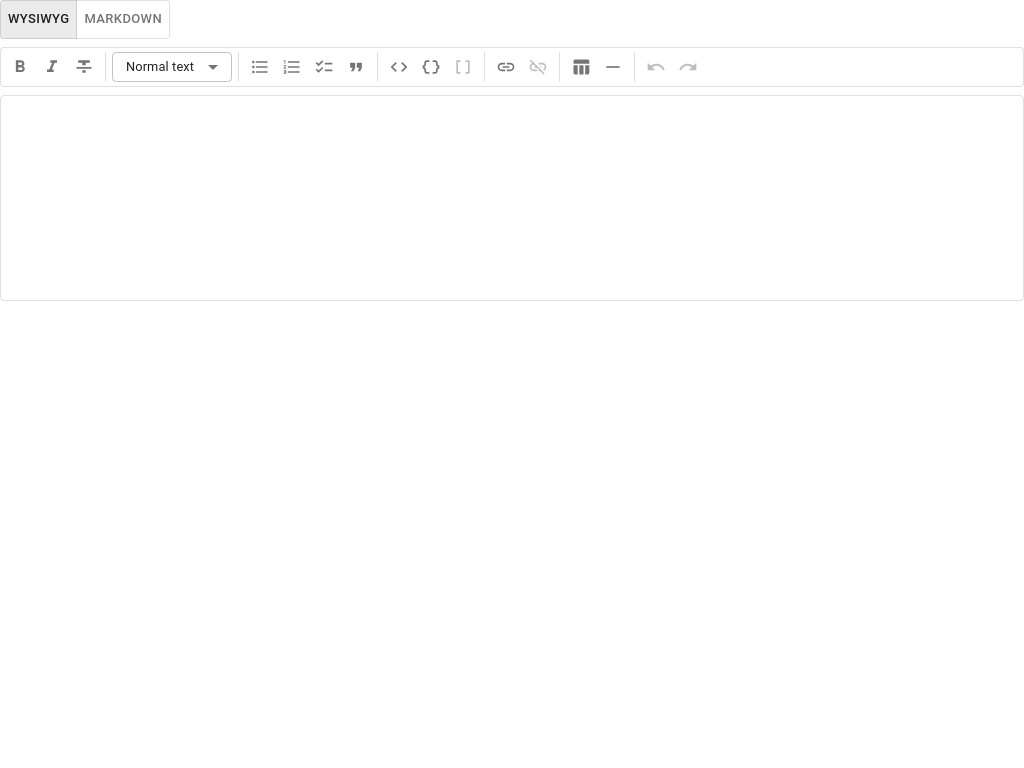
Test: MarkdownPanelEditor › opens the link dialog when the link button is clicked
What coordinates should you click on to do the following:
click the button named "Link"
I would click on:
 (506, 67)
Its box is [491,52,521,82].
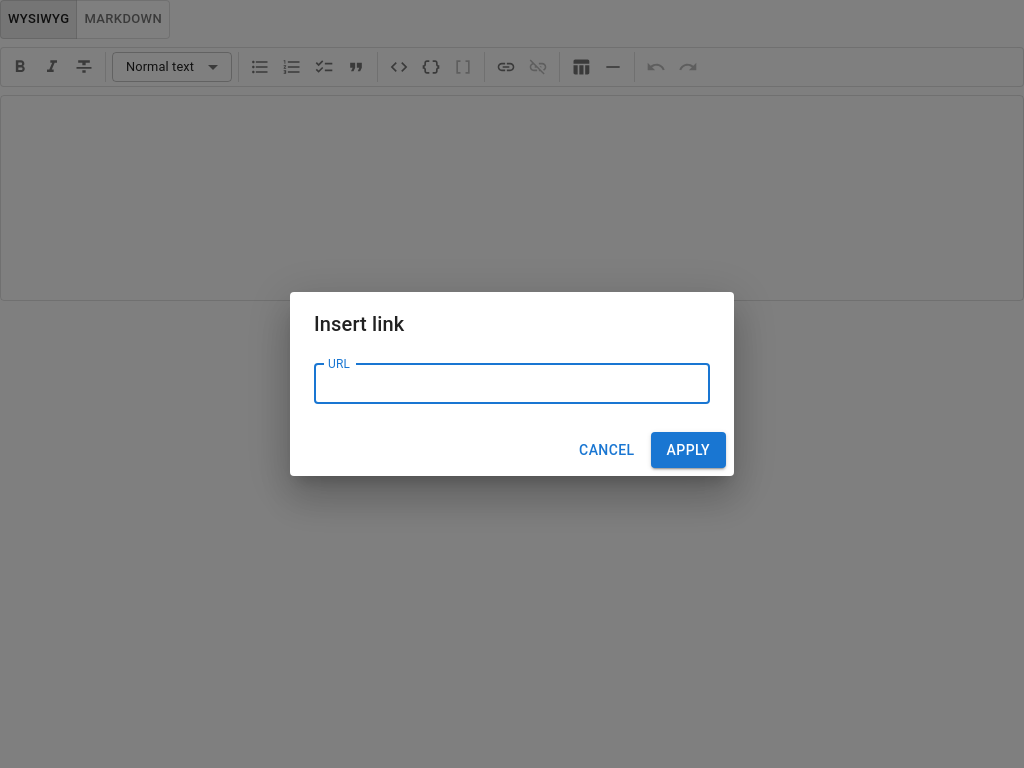
Now the dialog is shown, box [290,292,734,476]
Now the field labelled "URL" is shown, box [314,364,710,404]
